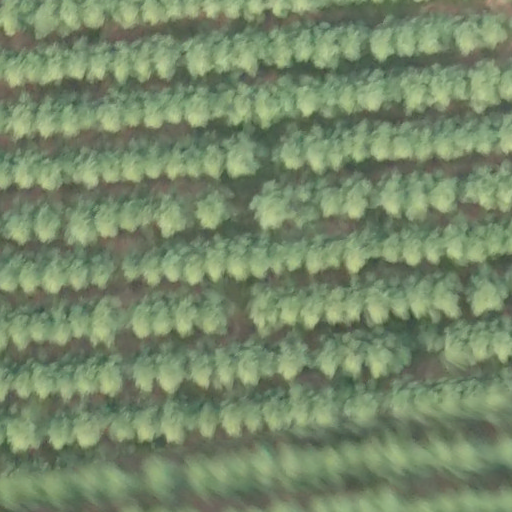eucalipto: (247, 182, 295, 228), (243, 288, 284, 338), (365, 334, 413, 376), (90, 298, 127, 346), (221, 136, 264, 177), (440, 324, 477, 371), (470, 60, 503, 110), (465, 276, 507, 315), (431, 272, 464, 321), (275, 337, 311, 381), (195, 298, 234, 338), (337, 175, 373, 218), (194, 192, 233, 230), (6, 416, 42, 456), (149, 35, 180, 81), (463, 168, 496, 211), (210, 346, 240, 393), (312, 388, 343, 433), (65, 205, 98, 247), (154, 194, 186, 237), (418, 19, 456, 55), (343, 393, 381, 429), (429, 378, 462, 419), (159, 401, 189, 446), (1, 205, 33, 247), (8, 96, 37, 142), (158, 351, 188, 395), (128, 352, 158, 396), (251, 87, 283, 128), (98, 355, 127, 400), (72, 409, 102, 452), (400, 69, 429, 113), (357, 73, 388, 114), (73, 357, 104, 398), (428, 178, 463, 214), (188, 348, 216, 393), (74, 146, 102, 190), (381, 171, 406, 220), (339, 333, 365, 380), (313, 25, 341, 68), (183, 90, 214, 128), (130, 298, 158, 340), (404, 177, 430, 222), (365, 285, 391, 330), (301, 283, 327, 328), (105, 412, 140, 445), (428, 65, 452, 113), (344, 230, 369, 276), (92, 200, 120, 241), (370, 24, 399, 63), (264, 396, 293, 435), (227, 237, 251, 284), (279, 130, 307, 170), (86, 40, 112, 83), (53, 362, 80, 403), (193, 399, 220, 440), (205, 238, 228, 286), (219, 396, 243, 442), (31, 362, 60, 400), (232, 34, 258, 76), (4, 48, 30, 90), (34, 203, 60, 245), (461, 375, 489, 414), (348, 118, 371, 165), (151, 295, 175, 340), (236, 348, 263, 388), (133, 40, 158, 83), (63, 37, 88, 80), (35, 95, 60, 138), (31, 1, 60, 38), (461, 226, 487, 267), (90, 251, 116, 292), (315, 337, 340, 379), (485, 372, 510, 414), (486, 221, 512, 261), (455, 18, 483, 55), (387, 283, 414, 321), (306, 134, 331, 175), (201, 141, 226, 182), (187, 39, 213, 78), (411, 277, 434, 321), (140, 251, 167, 288), (342, 284, 365, 327), (269, 30, 295, 68), (46, 409, 70, 450), (14, 152, 39, 191), (327, 285, 349, 329), (290, 387, 312, 431), (1, 1, 27, 38), (379, 229, 405, 266), (133, 407, 159, 444), (340, 22, 364, 62), (164, 246, 188, 286), (174, 296, 198, 336), (108, 1, 141, 30), (228, 86, 253, 124), (435, 125, 460, 163), (41, 258, 66, 296), (113, 39, 134, 84), (97, 98, 124, 133), (122, 145, 145, 186), (423, 224, 445, 266), (322, 238, 350, 271), (372, 123, 396, 161), (49, 305, 71, 346), (140, 143, 165, 179), (39, 156, 64, 192), (26, 309, 51, 345), (59, 101, 82, 140), (294, 85, 321, 118), (277, 295, 304, 328), (120, 200, 146, 234), (469, 325, 495, 359), (43, 45, 65, 85), (10, 368, 35, 403), (416, 385, 441, 420), (293, 28, 318, 62), (395, 20, 416, 60), (319, 183, 343, 218), (68, 303, 92, 338), (241, 397, 263, 435), (19, 260, 42, 296), (393, 127, 417, 161), (249, 244, 273, 278), (145, 92, 167, 129), (10, 314, 32, 351), (77, 1, 105, 30), (400, 233, 423, 268), (102, 146, 122, 186), (483, 17, 507, 50), (305, 244, 329, 277), (164, 93, 189, 124), (120, 252, 145, 283), (475, 119, 495, 157), (328, 132, 348, 170), (183, 141, 203, 179), (449, 65, 470, 101), (284, 243, 309, 273), (66, 259, 88, 293), (167, 142, 186, 181), (23, 50, 43, 87), (338, 82, 359, 117), (455, 121, 477, 154), (184, 256, 206, 289), (270, 240, 288, 280), (214, 38, 233, 75), (495, 323, 512, 364), (58, 1, 82, 30), (122, 95, 143, 127), (140, 1, 165, 27), (75, 101, 97, 130), (417, 128, 435, 161), (1, 262, 20, 293), (212, 91, 233, 119), (498, 113, 512, 155), (163, 1, 185, 22), (183, 1, 202, 23), (223, 1, 242, 20), (202, 1, 222, 19)
